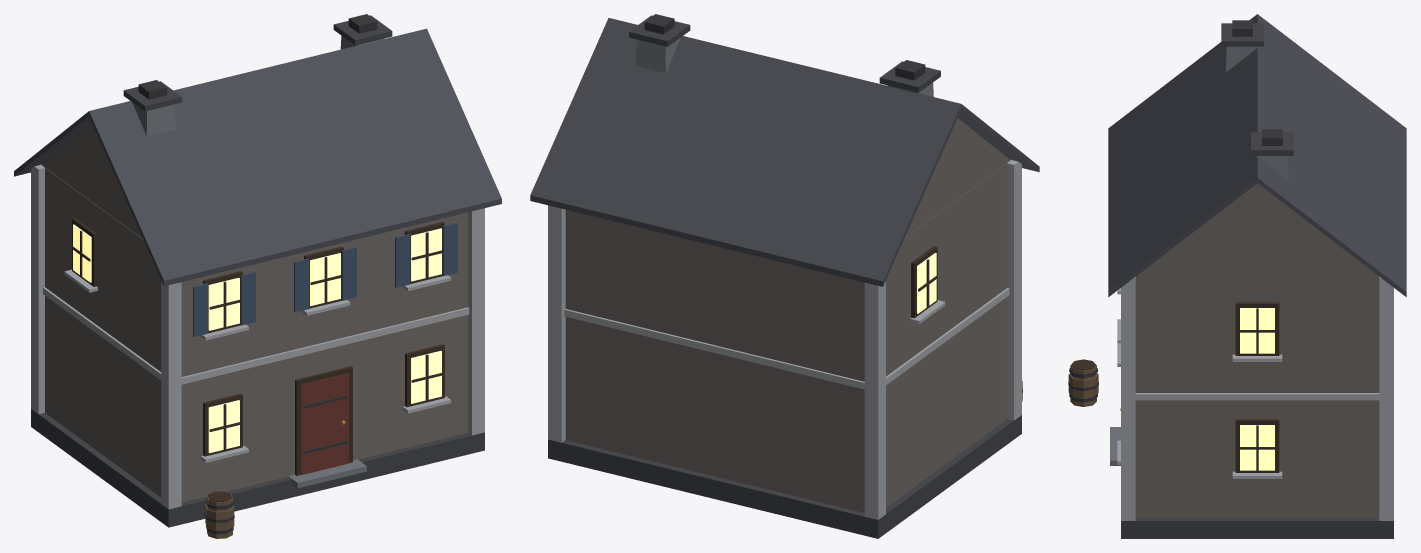
Rendered from bree_house_stone_1.glb.
3 views of the same model, side by side, from view 1: azimuth 30°, elevation 25°; view 2: azimuth 150°, elevation 25°; view 3: azimuth 270°, elevation 25° (orthographic). The views are drawn at different scales.
Parts seen in each view (by area): view 1: bree_house_stone_1; view 2: bree_house_stone_1; view 3: bree_house_stone_1.
Part boxes in pixels (x1,y1,x2,y2): bree_house_stone_1: (14, 14, 501, 538); bree_house_stone_1: (530, 14, 1039, 538); bree_house_stone_1: (1068, 14, 1406, 538).
Size of what is drawn, in the model's own units: 7.8 by 8.51 by 6.81.
